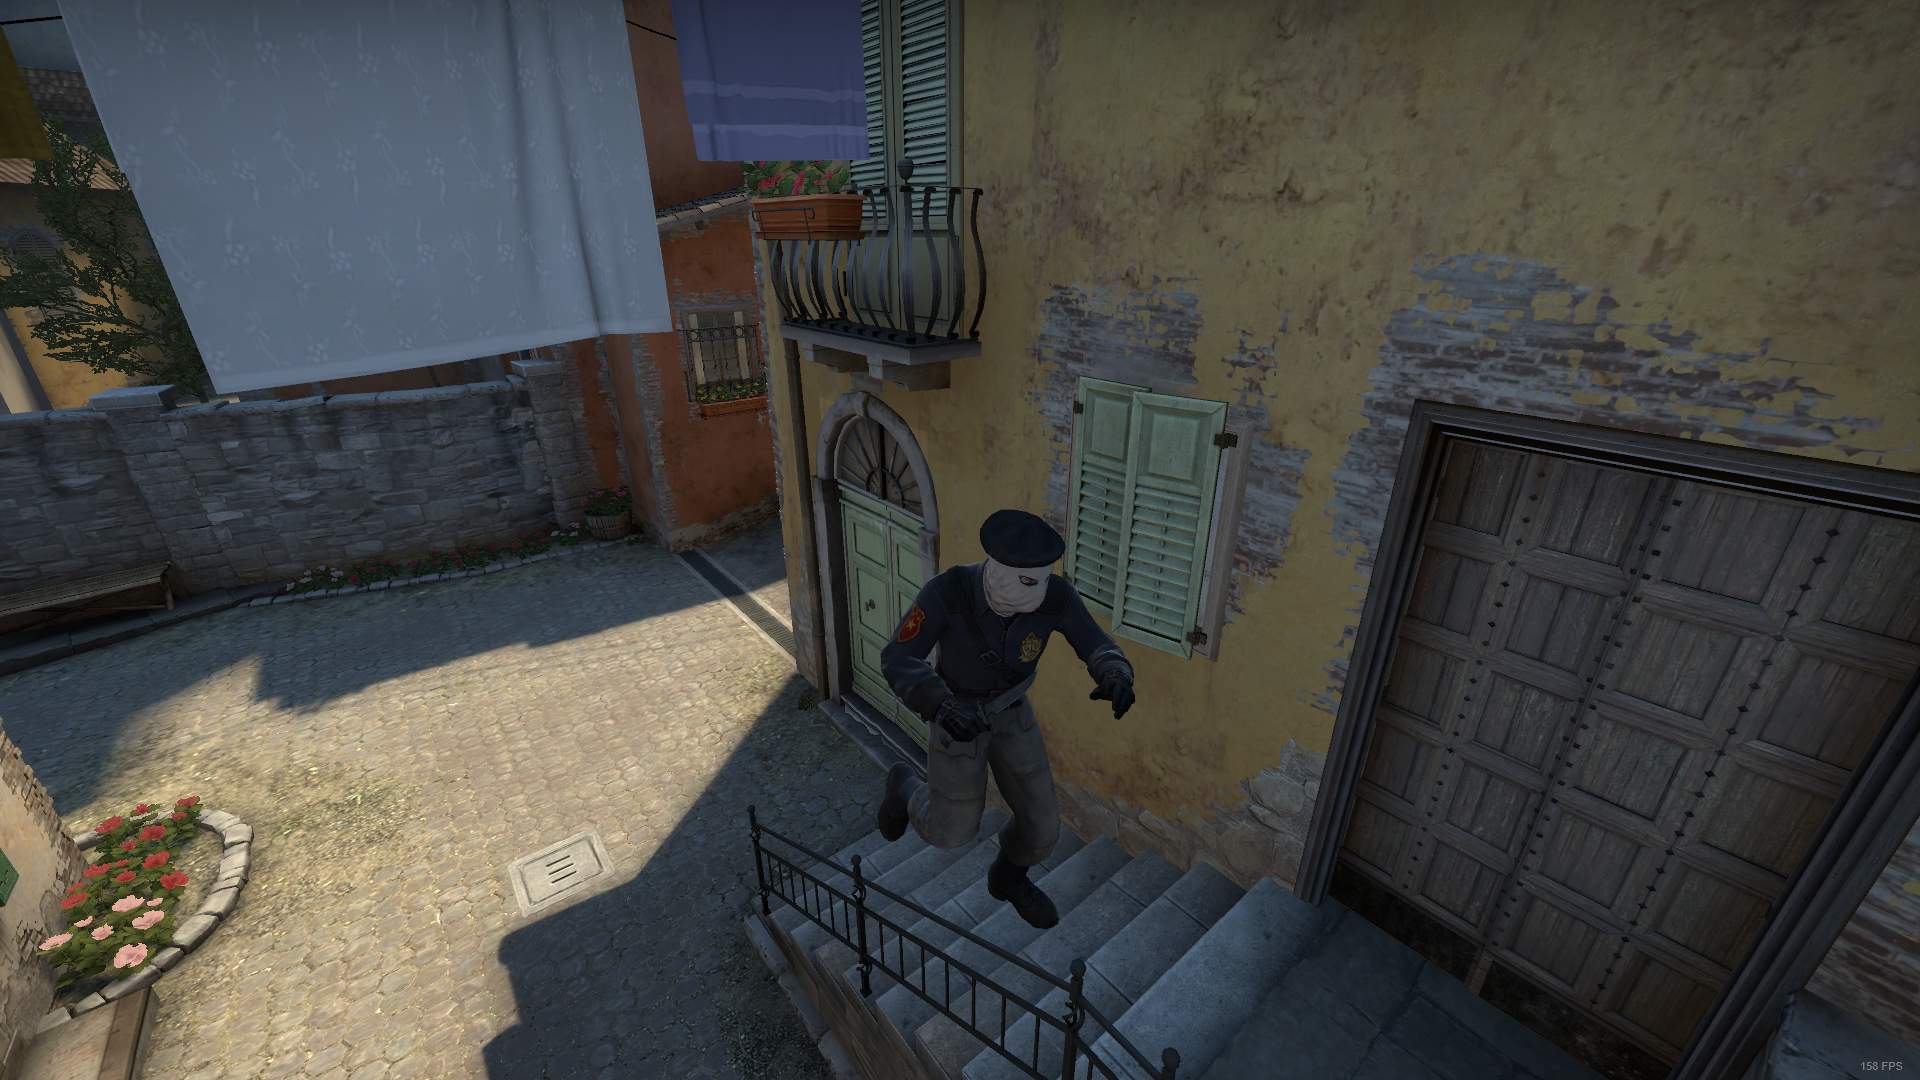t: (847, 505, 1133, 934)
